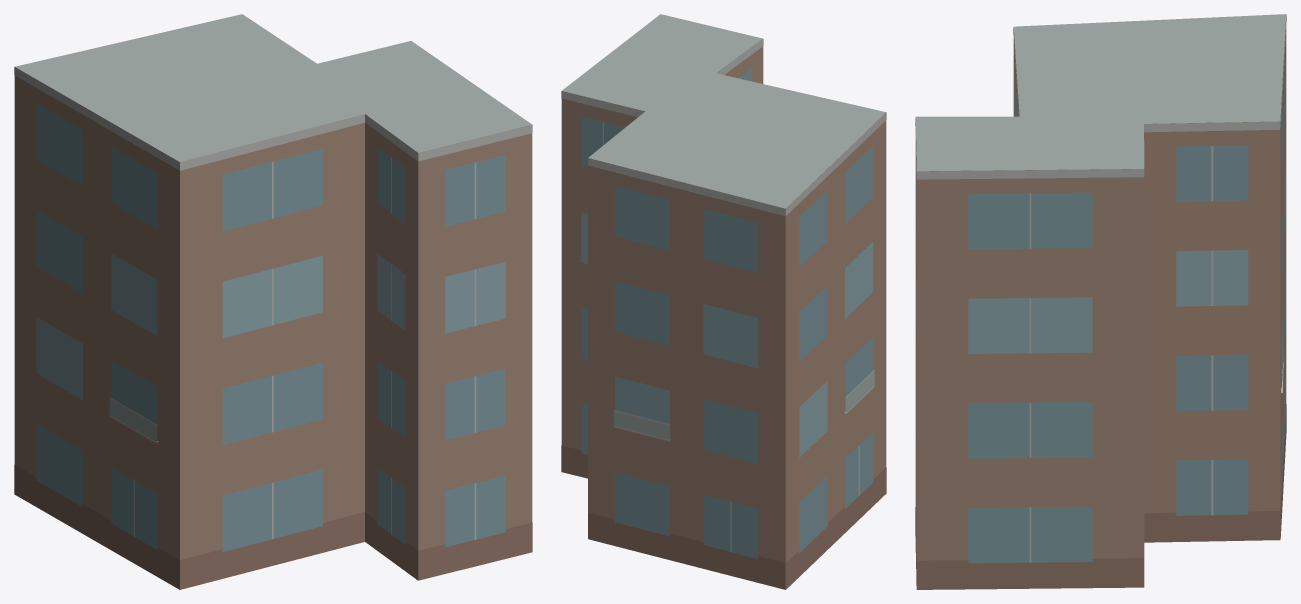
The model's file is survey-upis-32962268.glb.
3 renders of one model, left to right at view 1: azimuth 30°, elevation 25°; view 2: azimuth 150°, elevation 25°; view 3: azimuth 270°, elevation 25°, orthographic. The views are drawn at different scales.
Parts seen in each view (by area): view 1: survey-upis-32962268.tmp; view 2: survey-upis-32962268.tmp; view 3: survey-upis-32962268.tmp.
Boxes of the visible parts, x1,y1,x2,y2 form: survey-upis-32962268.tmp: (14,14,532,589); survey-upis-32962268.tmp: (561,14,886,589); survey-upis-32962268.tmp: (915,14,1286,589).
Bounding box in the file's own units: 9.84 × 12.2 × 9.8.
